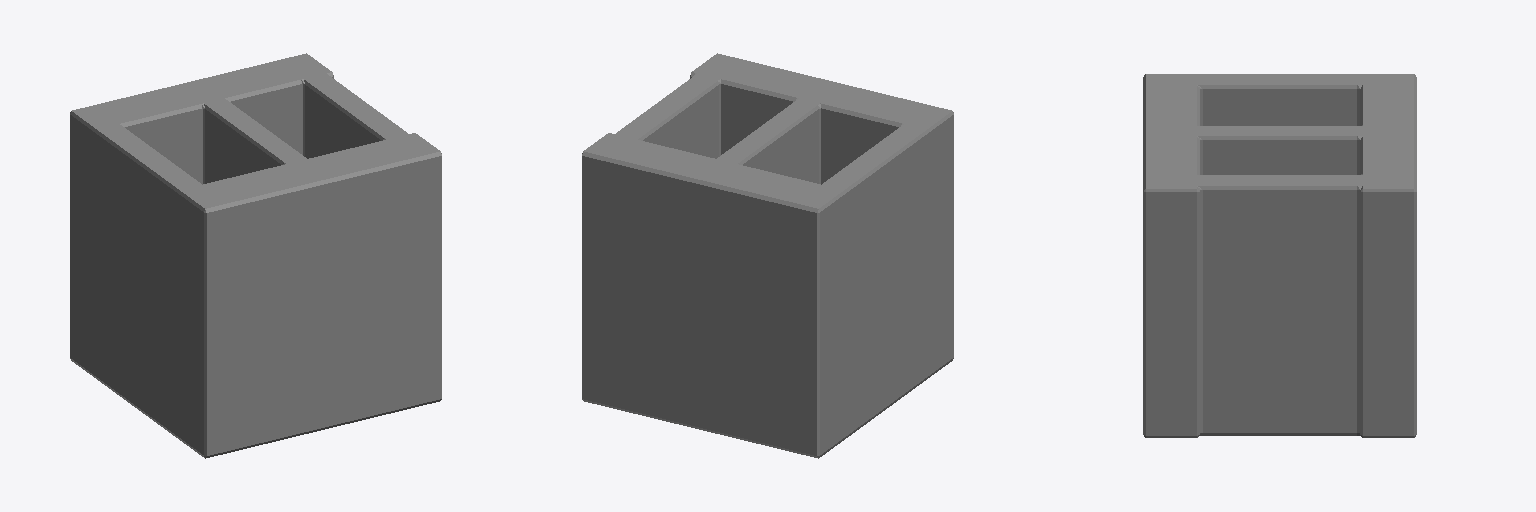
The model's file is cinderblock1Meter.obj.
3 renders of one model, left to right at view 1: azimuth 30°, elevation 25°; view 2: azimuth 150°, elevation 25°; view 3: azimuth 270°, elevation 25°, orthographic.
Parts seen in each view (by area): view 1: 1; view 2: 1; view 3: 1.
Boxes of the visible parts, x1=… form: 1: x1=70, y1=53, x2=441, y2=458; 1: x1=582, y1=53, x2=953, y2=458; 1: x1=1143, y1=74, x2=1416, y2=437.
Bounding box in the file's own units: 0.9931 × 0.9962 × 0.9884.